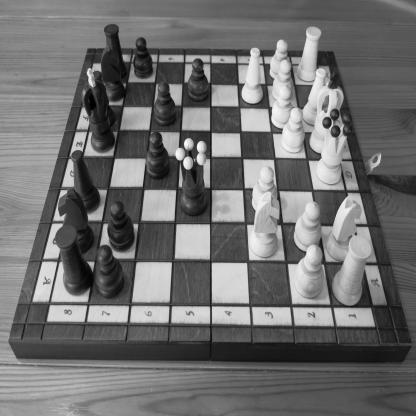black-bishop: (70, 149, 101, 214), (91, 70, 117, 128)
black-king: (81, 67, 116, 154)
black-knight: (58, 187, 94, 255), (100, 44, 126, 102)
black-pawn: (94, 243, 125, 299), (107, 199, 135, 252), (145, 131, 170, 180), (152, 80, 176, 127), (187, 56, 210, 102), (133, 36, 154, 79)
black-queen: (175, 137, 208, 216)
black-rook: (54, 224, 94, 295), (103, 22, 128, 80)
white-bishop: (302, 67, 327, 126), (241, 46, 264, 104)
white-king: (309, 69, 344, 155)
white-knight: (328, 191, 366, 258), (249, 191, 281, 258)
white-pawn: (294, 244, 324, 299), (293, 201, 323, 253), (252, 165, 278, 214), (280, 106, 306, 153), (271, 84, 295, 130), (267, 39, 289, 81), (272, 60, 294, 102)
white-queen: (315, 107, 353, 185)
white-rook: (331, 234, 372, 307), (296, 27, 322, 83)
